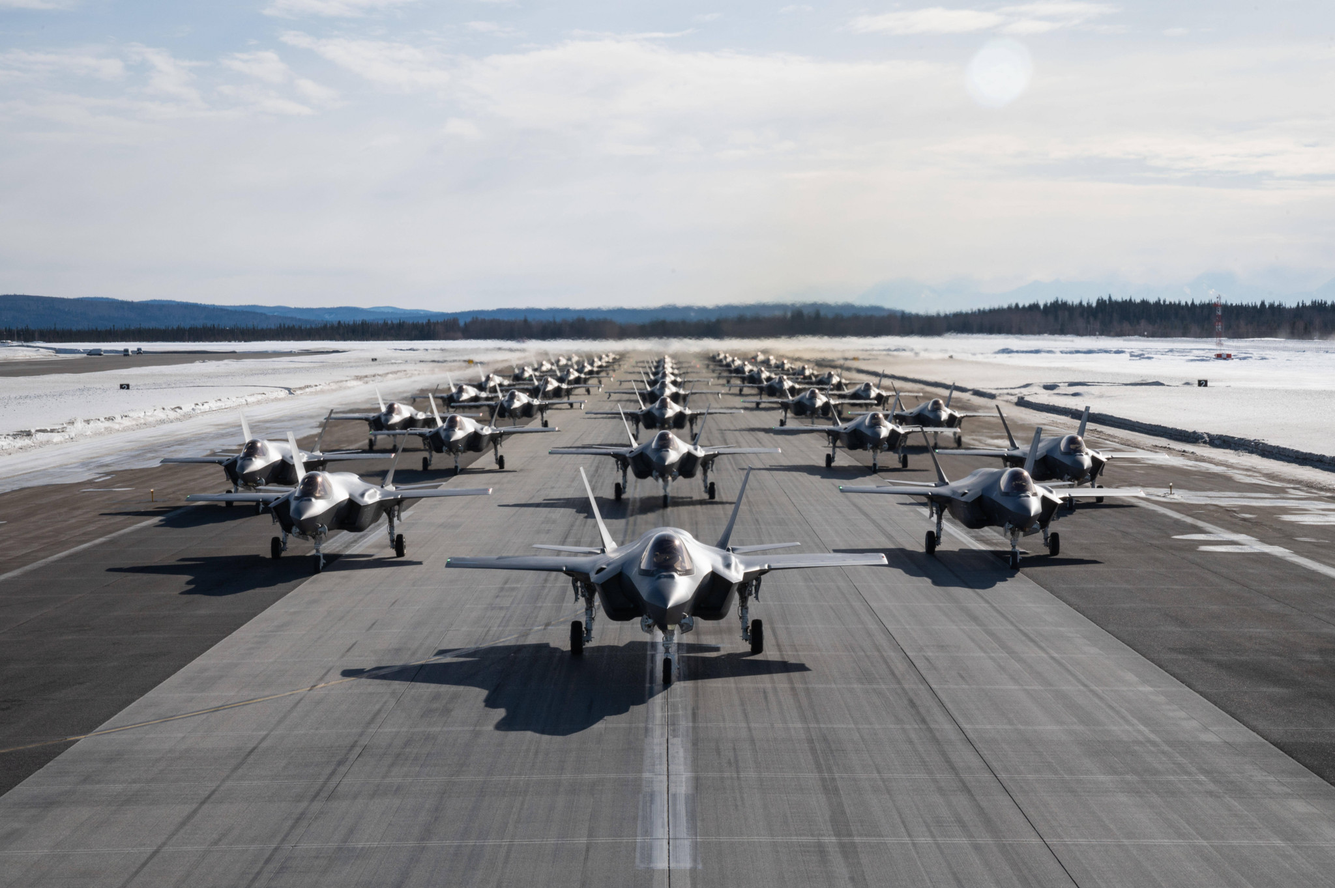F35: (440, 461, 903, 694), (181, 428, 495, 573), (889, 416, 1151, 574), (926, 403, 1176, 510), (541, 403, 785, 507), (161, 410, 399, 505), (771, 388, 962, 474), (369, 392, 562, 474), (586, 381, 745, 440), (448, 380, 591, 427), (744, 378, 880, 426), (602, 377, 745, 410), (814, 370, 920, 414), (401, 372, 514, 406), (730, 367, 825, 404), (505, 370, 600, 405), (797, 367, 871, 393)
